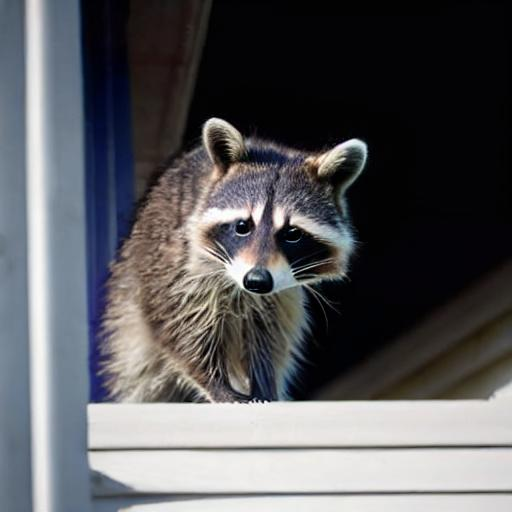raccoon: (92, 108, 381, 403)
